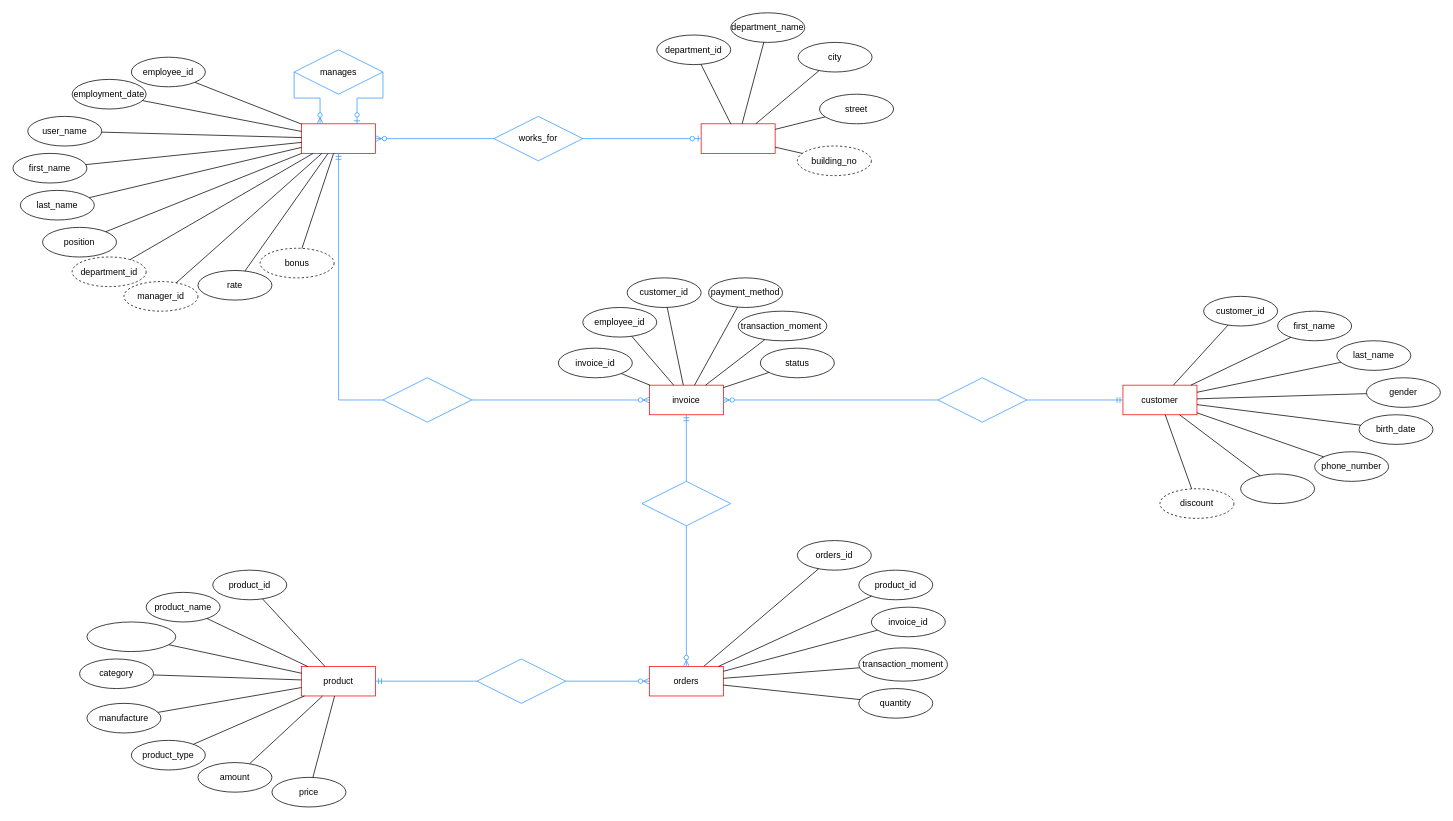
Some shapes in this 1453 by 821 pixel diagram are drawn without their labels. Here are the shapes that lost their labels. From the top down, the centre of each, then its label:
At [338,138]: "employee".
At [737,138]: "departament".
At [427,399]: "create".
At [982,399]: "get".
At [686,503]: "include".
At [1277,488]: "email".
At [131,636]: "product_description".
At [521,680]: "sells".
